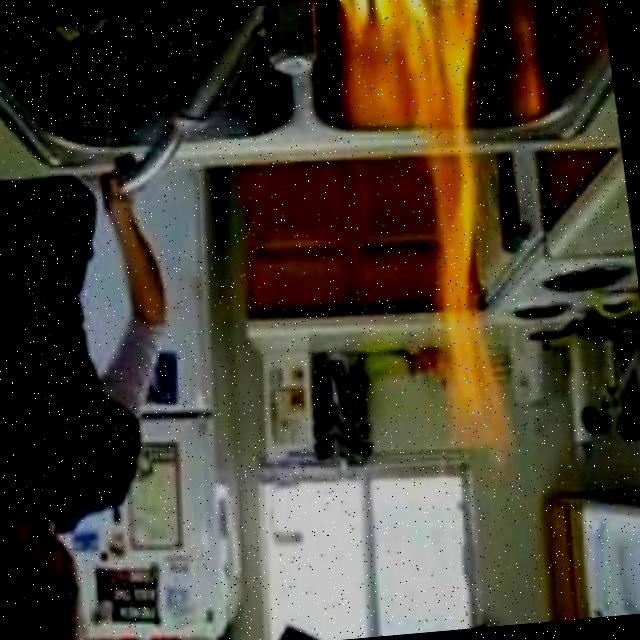fire: (300, 0, 560, 492)
